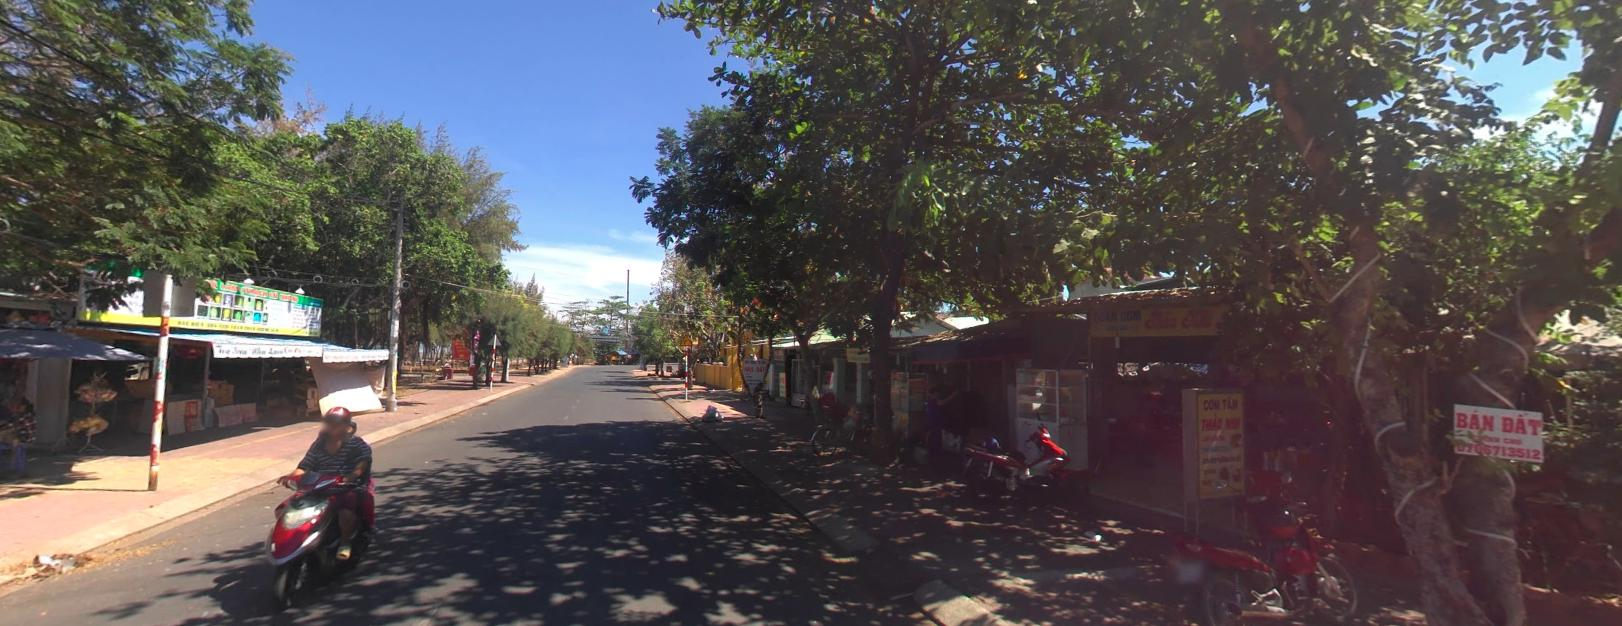Nguy hiem: (678, 333, 692, 344)
